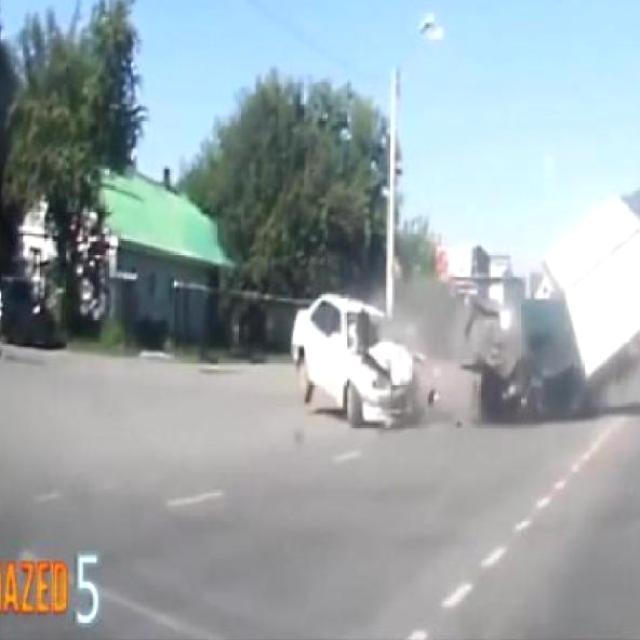accident: (351, 274, 582, 410)
